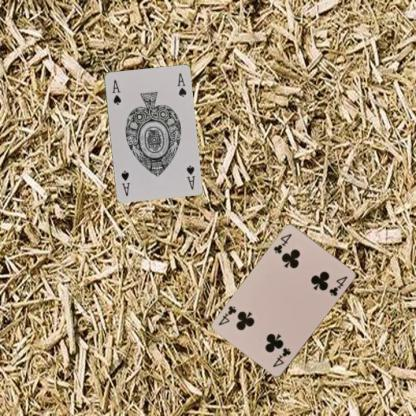4c: (271, 231, 293, 256), (270, 345, 292, 369)
As: (110, 77, 122, 106), (184, 162, 196, 191)
